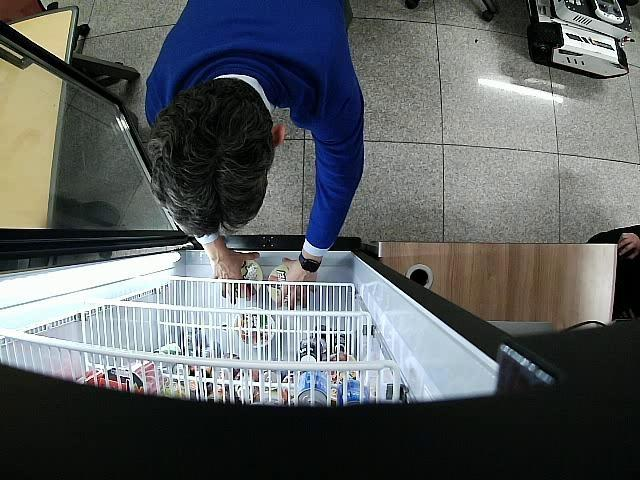03_chapagetti_L: (234, 259, 262, 298), (267, 265, 288, 305)
